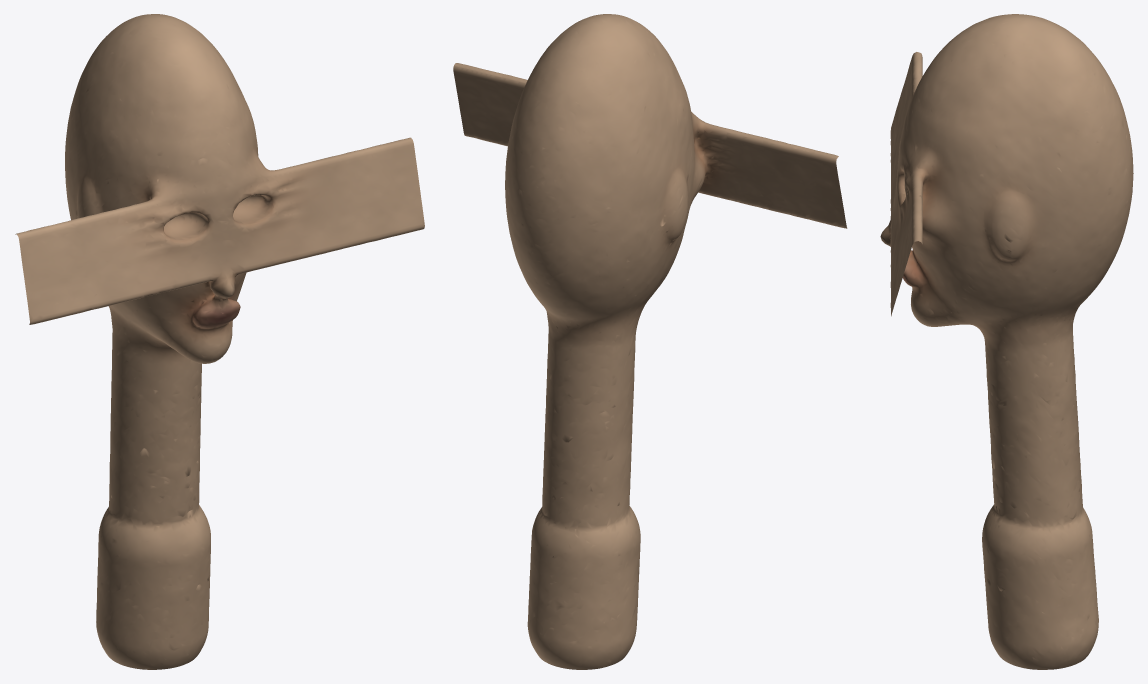
Rendered from savci_skin.glb.
The picture shows the model from 3 angles, left to right: view 1: azimuth 30°, elevation 25°; view 2: azimuth 150°, elevation 25°; view 3: azimuth 270°, elevation 25°; orthographic projection. The views are drawn at different scales.
Parts seen in each view (by area): view 1: geometry_0; view 2: geometry_0; view 3: geometry_0.
Part boxes in pixels (<box>): geometry_0: <box>15,14,424,669</box>; geometry_0: <box>453,14,847,669</box>; geometry_0: <box>880,14,1133,669</box>.
Bounding box in the file's own units: 0.2916 × 0.4522 × 0.1647.
